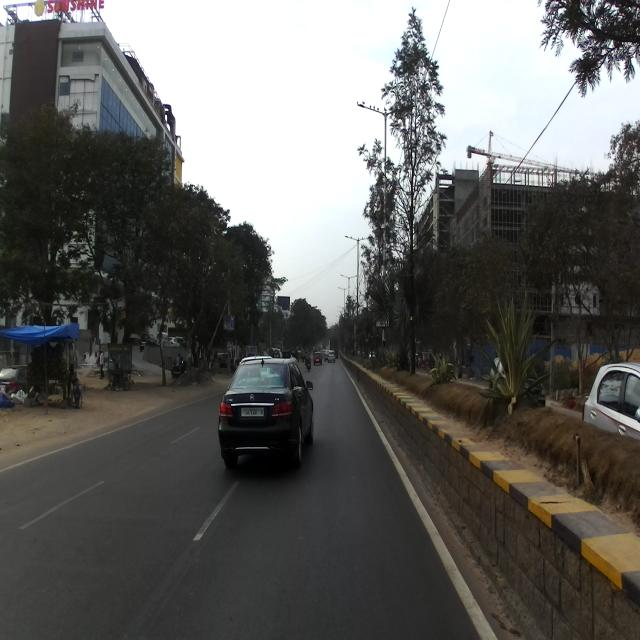car ahead at: (216, 352, 319, 468)
